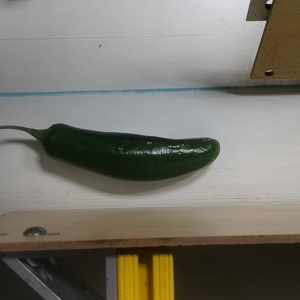Cut Point: (32, 121, 65, 155)
